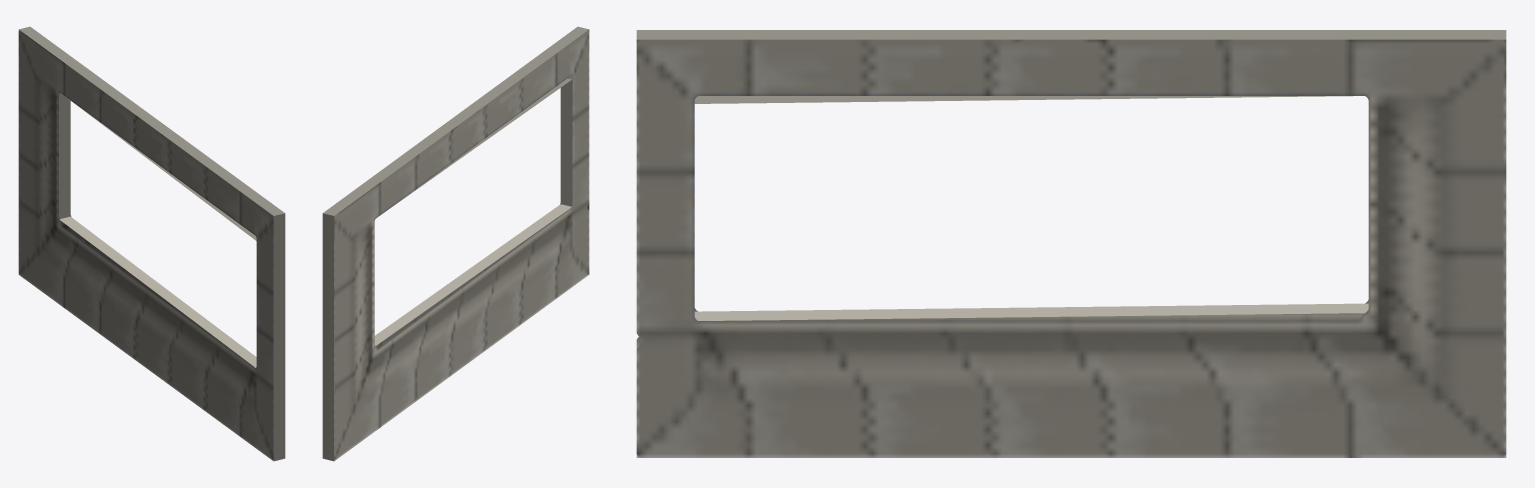
The model's file is pz_native_fixtures_windows_church_16_frame.obj.
The picture shows the model from 3 angles, left to right: view 1: azimuth 30°, elevation 25°; view 2: azimuth 150°, elevation 25°; view 3: azimuth 270°, elevation 25°; orthographic projection. The views are drawn at different scales.
Visible parts, largest first — view 1: pz_native_fixtures_windows_church_16_frame; view 2: pz_native_fixtures_windows_church_16_frame; view 3: pz_native_fixtures_windows_church_16_frame.
Boxes of the visible parts, x1,y1,x2,y2 form: pz_native_fixtures_windows_church_16_frame: [18, 26, 285, 461]; pz_native_fixtures_windows_church_16_frame: [322, 26, 589, 461]; pz_native_fixtures_windows_church_16_frame: [636, 30, 1506, 457].
Bounding box in the file's own units: 0.04 × 0.875 × 1.58.
Materials: 1 (1 with a texture image).
